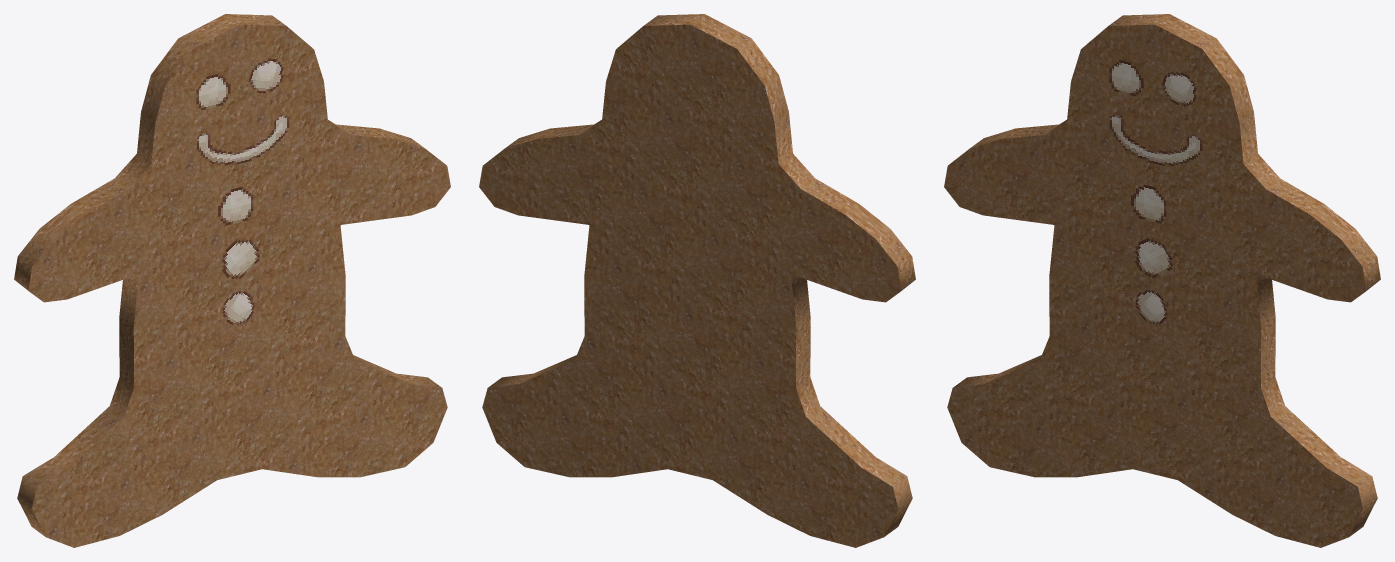
File: stg200_obj_ginger.obj
3 renders of one model, left to right at view 1: azimuth 30°, elevation 25°; view 2: azimuth 150°, elevation 25°; view 3: azimuth 330°, elevation 25°, orthographic.
Visible parts, largest first — view 1: polygon0, polygon1; view 2: polygon0; view 3: polygon0, polygon1.
Boxes of the visible parts, x1,y1,x2,y2 form: polygon0: (14, 14, 450, 547); polygon1: (196, 58, 289, 325); polygon0: (479, 14, 915, 547); polygon0: (944, 14, 1380, 547); polygon1: (1109, 60, 1202, 324).
Bounding box in the file's own units: 17.16 × 18.75 × 1.11.
2 materials, 2 textured.
